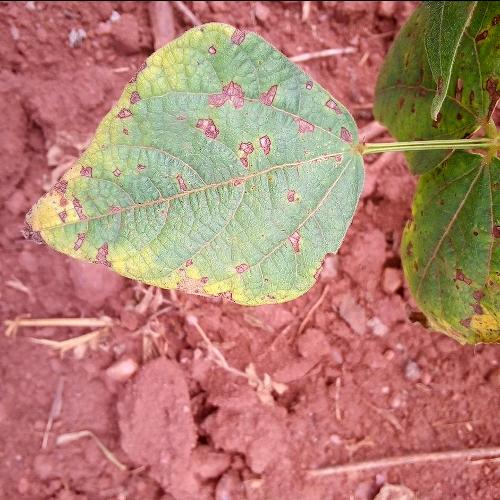hawar: (20, 19, 344, 312)
